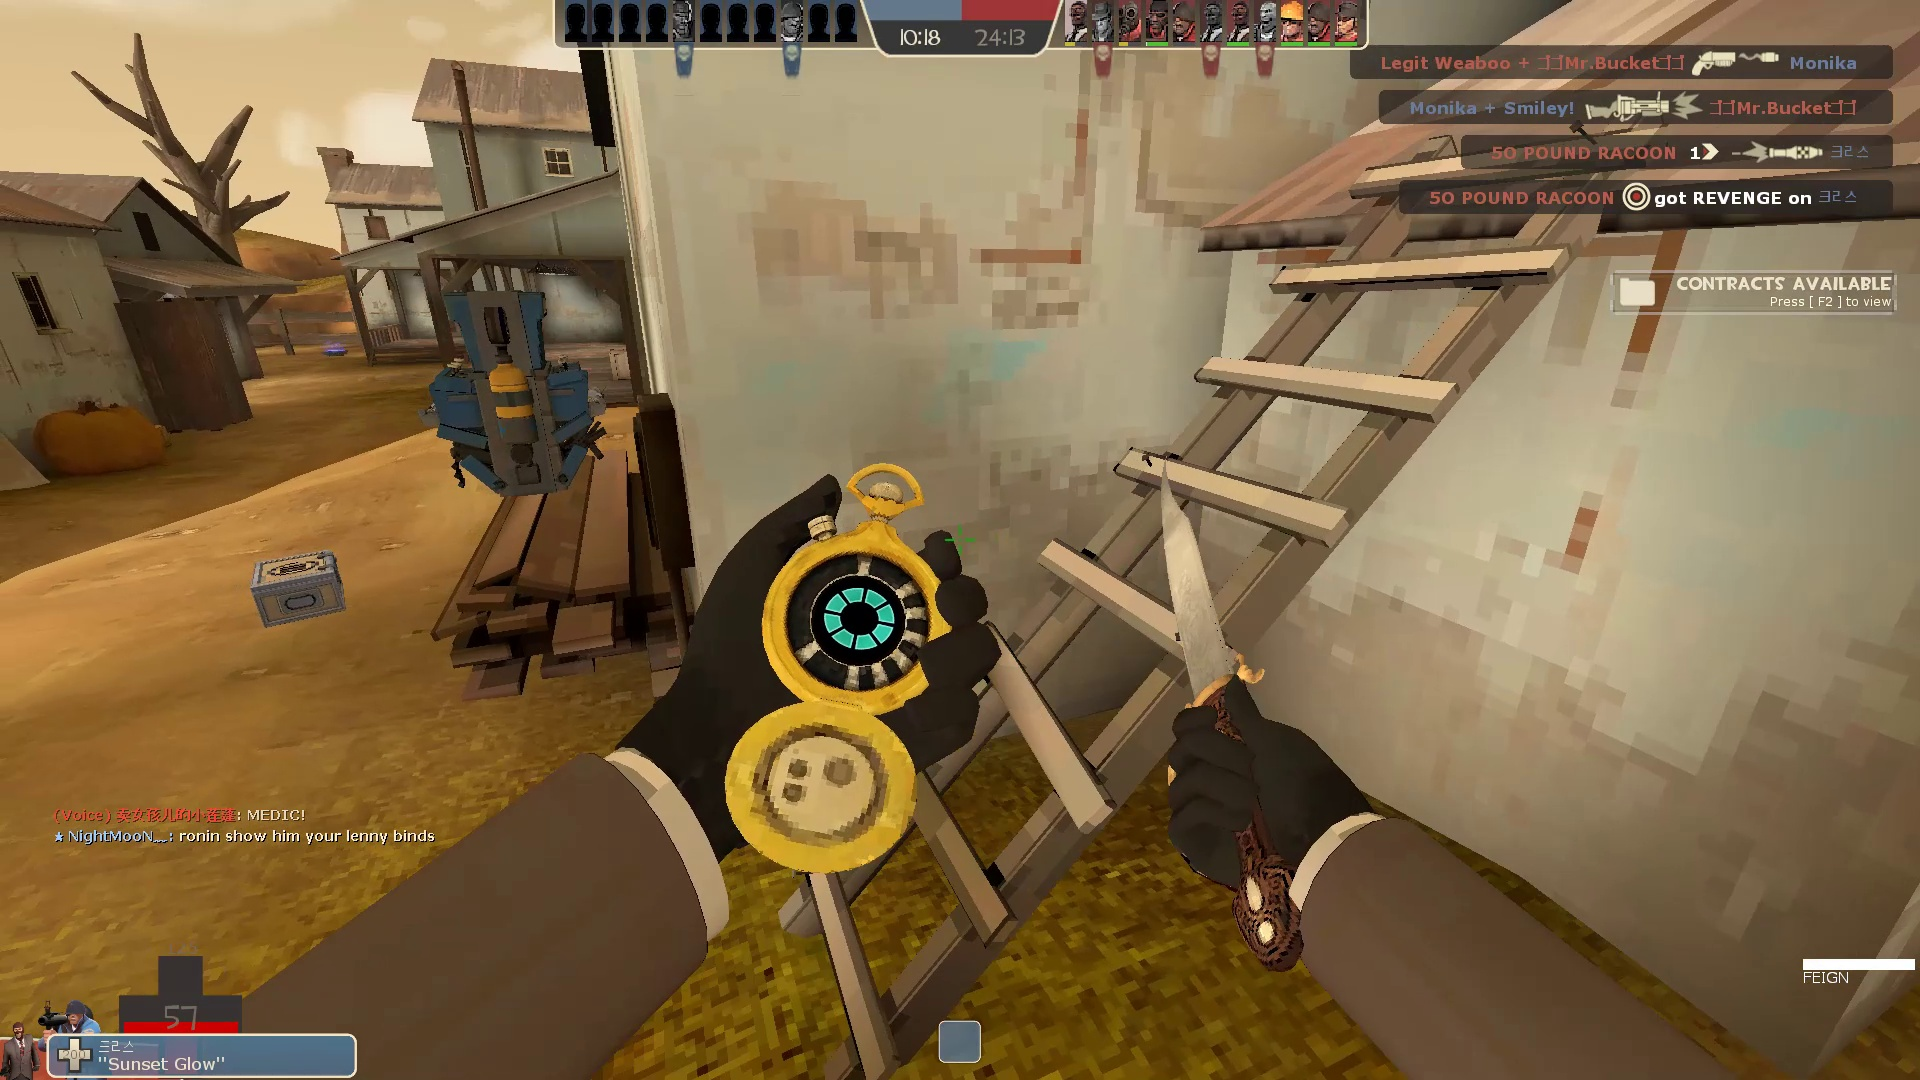blu_dispenser: (418, 269, 608, 498)
blu_teleporter: (323, 330, 351, 359)
